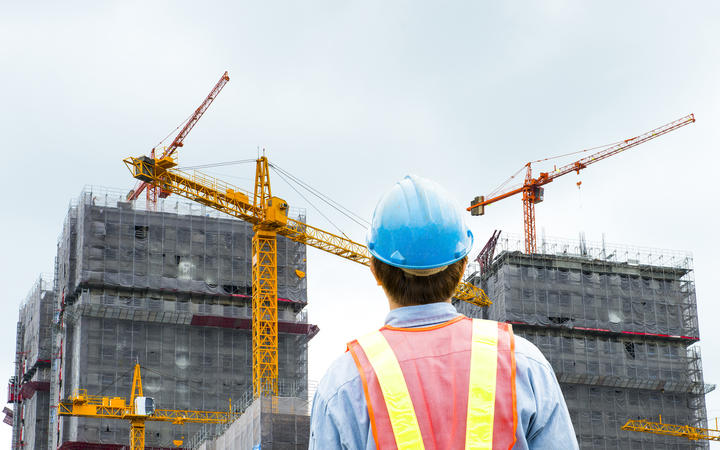hard hat: (347, 315, 517, 450), (364, 173, 472, 267)
